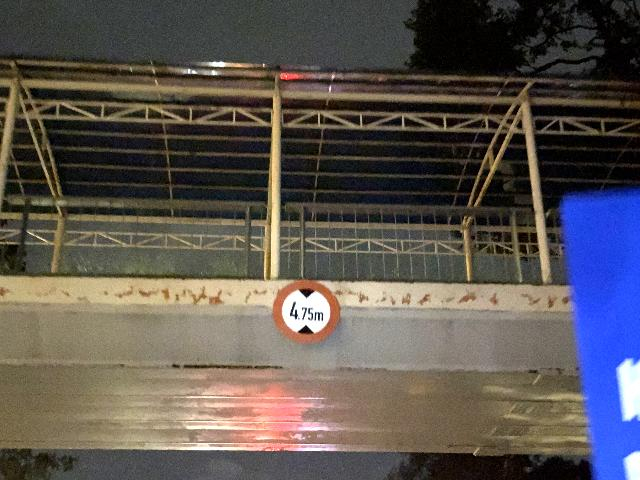han-che-chieu-cao: (273, 279, 340, 344)
